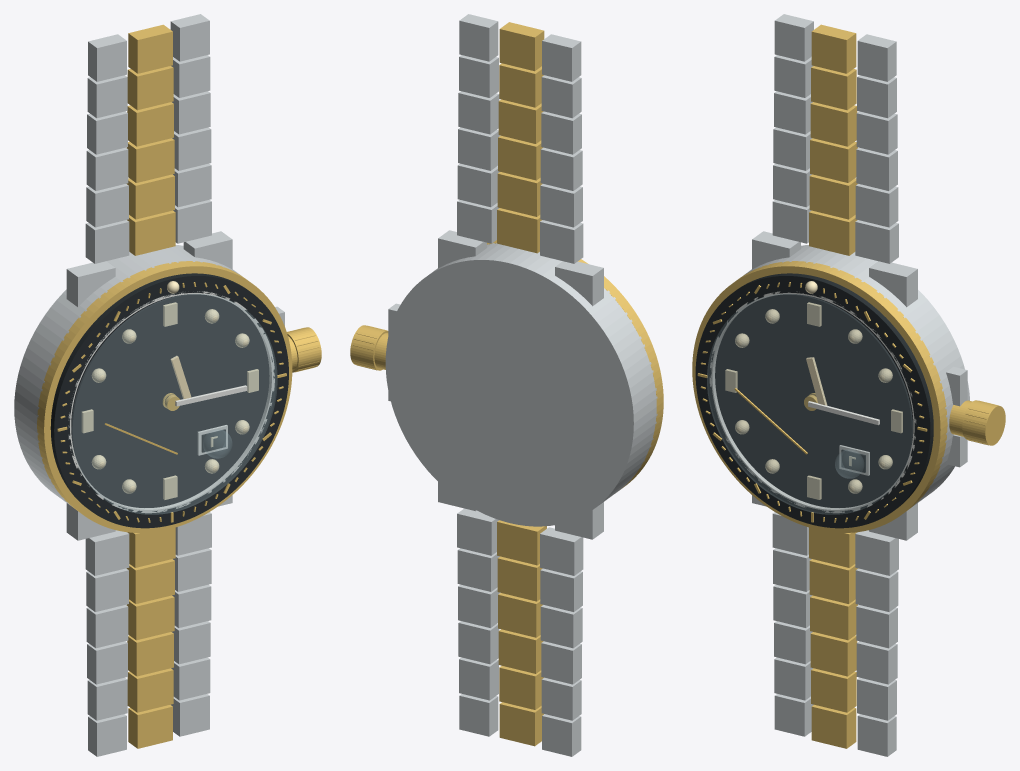
File: two_tone_luxury_dive_watch.glb
The picture shows the model from 3 angles, left to right: view 1: azimuth 30°, elevation 25°; view 2: azimuth 150°, elevation 25°; view 3: azimuth 330°, elevation 25°; orthographic projection.
Parts seen in each view (by area): view 1: Sapphire crystal, Black dial, Black elapsed-time bezel insert, Gold bezel outer rim, Watch case - steel midcase, Inner polished rehaut, Bracelet 1 link 6 center gold, Bracelet 1 link 1 center gold, Bracelet 1 link 3 center gold, Bracelet 1 link 5 center gold, Bracelet -1 link 1 left steel, Bracelet -1 link 3 center gold (+35 smaller); view 2: Watch case - steel midcase, Bracelet 1 link 6 center gold, Bracelet -1 link 1 left steel, Gold bezel outer rim, Bracelet 1 link 6 left steel, Bracelet 1 link 6 right steel, Bracelet -1 link 1 center gold, Bracelet 1 link 4 center gold, Bracelet 1 link 2 center gold, Bracelet 1 link 1 left steel, Bracelet -1 link 2 center gold, Bracelet -1 link 4 center gold (+30 smaller); view 3: Sapphire crystal, Black dial, Black elapsed-time bezel insert, Gold bezel outer rim, Watch case - steel midcase, Inner polished rehaut, Bracelet 1 link 6 center gold, Bracelet 1 link 2 center gold, Bracelet 1 link 1 center gold, Bracelet 1 link 3 center gold, Bracelet 1 link 4 center gold, Bracelet -1 link 2 center gold (+37 smaller).
Boxes of the visible parts, x1,y1,x2,y2 form: Sapphire crystal: (71, 294, 277, 514); Black dial: (71, 294, 269, 507); Black elapsed-time bezel insert: (50, 273, 288, 528); Gold bezel outer rim: (37, 261, 292, 532); Watch case - steel midcase: (14, 245, 241, 506); Inner polished rehaut: (68, 291, 274, 513); Bracelet 1 link 6 center gold: (128, 24, 172, 73); Bracelet 1 link 1 center gold: (127, 210, 175, 255); Bracelet 1 link 3 center gold: (126, 138, 174, 182); Bracelet 1 link 5 center gold: (127, 66, 173, 110); Bracelet -1 link 1 left steel: (85, 530, 129, 575); Bracelet -1 link 3 center gold: (126, 595, 174, 640); Watch case - steel midcase: (385, 243, 657, 526); Bracelet 1 link 6 center gold: (499, 22, 544, 71); Bracelet -1 link 1 left steel: (540, 527, 583, 575); Gold bezel outer rim: (487, 240, 663, 488); Bracelet 1 link 6 left steel: (542, 34, 581, 81); Bracelet 1 link 6 right steel: (459, 14, 498, 61); Bracelet -1 link 1 center gold: (497, 520, 546, 565); Bracelet 1 link 4 center gold: (498, 99, 543, 143); Bracelet 1 link 2 center gold: (497, 172, 542, 216); Bracelet 1 link 1 left steel: (540, 220, 583, 263); Bracelet -1 link 2 center gold: (497, 556, 542, 601); Bracelet -1 link 4 center gold: (498, 629, 543, 673); Sapphire crystal: (707, 294, 912, 514); Black dial: (715, 294, 913, 507); Black elapsed-time bezel insert: (695, 273, 933, 528); Gold bezel outer rim: (692, 261, 947, 532); Watch case - steel midcase: (743, 245, 969, 506); Inner polished rehaut: (709, 291, 916, 513); Bracelet 1 link 6 center gold: (811, 24, 856, 73); Bracelet 1 link 2 center gold: (809, 174, 857, 219); Bracelet 1 link 1 center gold: (809, 210, 857, 255); Bracelet 1 link 3 center gold: (810, 138, 857, 182); Bracelet 1 link 4 center gold: (810, 102, 857, 146); Bracelet -1 link 2 center gold: (809, 559, 857, 603).
Size of the model in its own units: 2.35 by 5.57 by 0.645.
